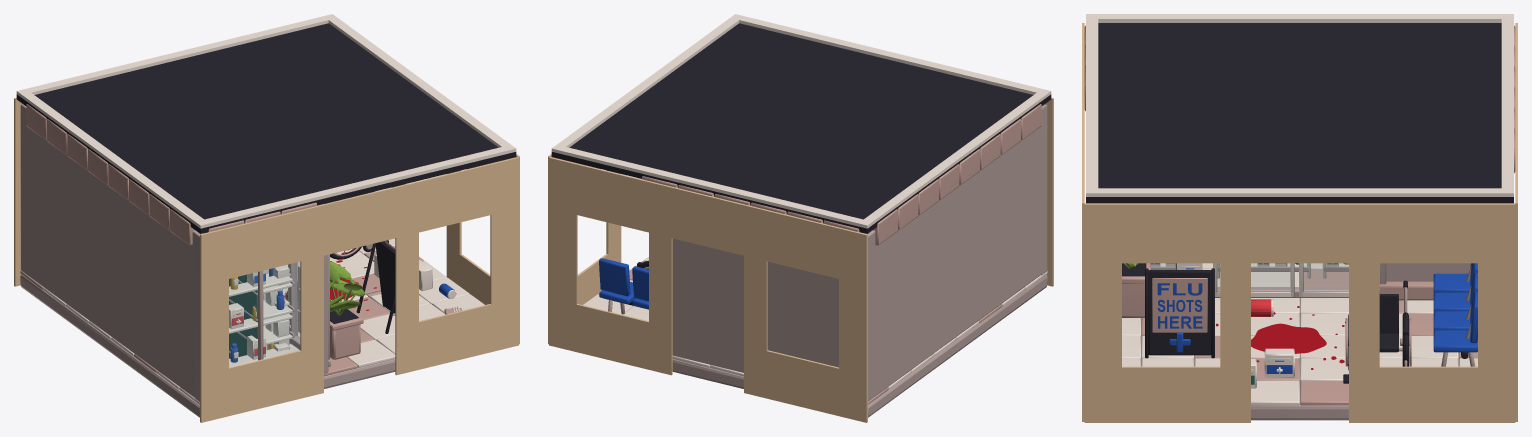
File: bld.pharmacy.glb
The picture shows the model from 3 angles, left to right: view 1: azimuth 30°, elevation 25°; view 2: azimuth 150°, elevation 25°; view 3: azimuth 270°, elevation 25°; orthographic projection. The views are drawn at different scales.
Parts seen in each view (by area): view 1: roof, interior; view 2: roof, interior; view 3: roof, interior, door_R_keep_glass, door_L_keep_glass, object 7, door_L, door_R.
Boxes of the visible parts, <box> form: roof: <box>14,14,519,422</box>; interior: <box>20,104,484,417</box>; roof: <box>548,14,1053,422</box>; interior: <box>583,104,1047,417</box>; roof: <box>1082,14,1517,422</box>; interior: <box>1084,25,1515,420</box>; door_R_keep_glass: <box>1304,264,1348,288</box>; door_L_keep_glass: <box>1218,264,1289,288</box>; object 7: <box>1345,312,1411,370</box>; door_L: <box>1213,263,1294,296</box>; door_R: <box>1299,263,1380,296</box>.
Bounding box in the file's own units: 6.34 × 3.71 × 6.43.
